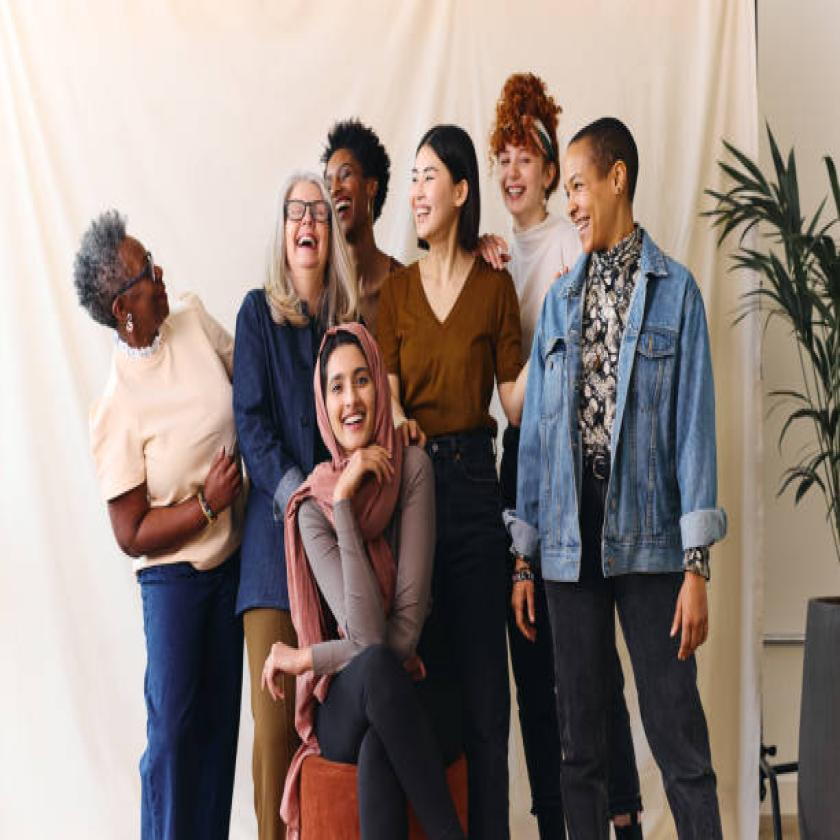Sin_casco: (59, 199, 186, 377), (556, 98, 659, 261), (265, 164, 349, 318), (408, 109, 491, 264), (488, 64, 560, 227), (314, 113, 392, 253)
